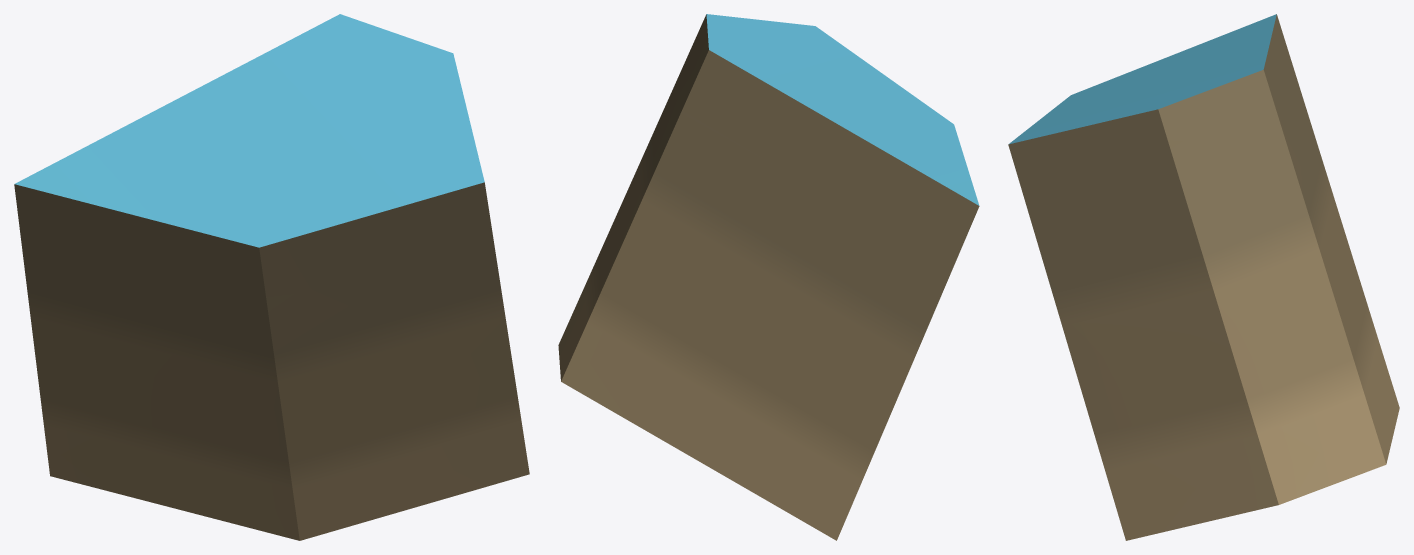
Rendered from 0640_Guinea-Bissau.glb.
3 views of the same model, side by side, from view 1: azimuth 30°, elevation 25°; view 2: azimuth 150°, elevation 25°; view 3: azimuth 270°, elevation 25° (orthographic). The views are drawn at different scales.
Visible parts, largest first — view 1: part_0; view 2: part_0; view 3: part_0.
Boxes of the visible parts, x1,y1,x2,y2 form: part_0: [14, 14, 529, 540]; part_0: [558, 14, 979, 540]; part_0: [1008, 14, 1399, 540].
Size of the model in its own units: 0.2561 by 0.2421 by 0.1877.
1 material, 1 textured.
